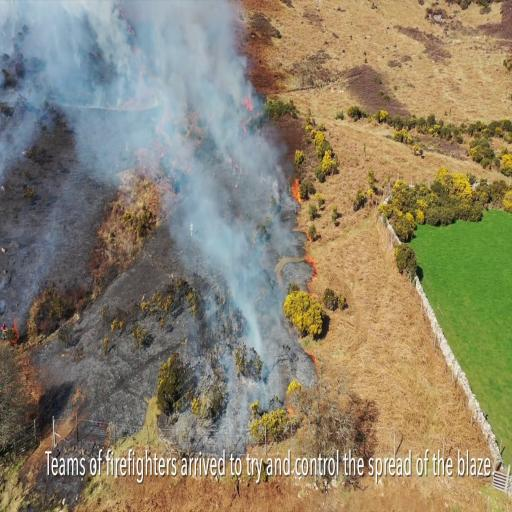smoke: (16, 0, 220, 80), (164, 0, 226, 153)
